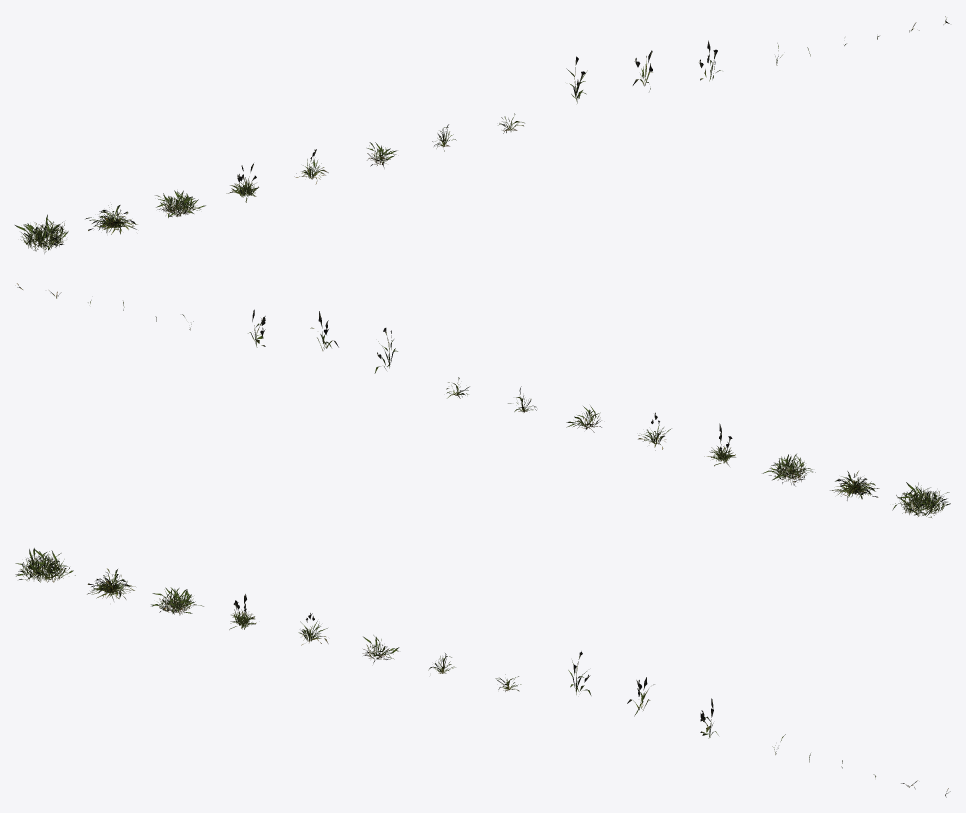
File: grass_medium_01.glb
3 renders of one model, top to bottom at view 1: azimuth 30°, elevation 25°; view 2: azimuth 150°, elevation 25°; view 3: azimuth 330°, elevation 25°, orthographic.
Parts seen in each view (by area): view 1: grass_medium_01_large_a_LOD0, grass_medium_01_large_c_LOD0, grass_medium_01_large_b_LOD0; view 2: grass_medium_01_large_a_LOD0, grass_medium_01_large_c_LOD0, grass_medium_01_large_b_LOD0; view 3: grass_medium_01_large_a_LOD0, grass_medium_01_large_c_LOD0, grass_medium_01_large_b_LOD0.
Boxes of the visible parts, bbox=[...] form: grass_medium_01_large_a_LOD0: bbox=[15, 214, 68, 253]; grass_medium_01_large_c_LOD0: bbox=[155, 190, 205, 217]; grass_medium_01_large_b_LOD0: bbox=[85, 204, 137, 234]; grass_medium_01_large_a_LOD0: bbox=[892, 482, 950, 517]; grass_medium_01_large_c_LOD0: bbox=[762, 454, 815, 486]; grass_medium_01_large_b_LOD0: bbox=[830, 471, 879, 500]; grass_medium_01_large_a_LOD0: bbox=[15, 548, 75, 582]; grass_medium_01_large_c_LOD0: bbox=[151, 587, 203, 615]; grass_medium_01_large_b_LOD0: bbox=[87, 568, 135, 600].
Size of the model in its own units: 5.6 by 0.3382 by 0.3266.
Materials: 1 (1 with a texture image).
